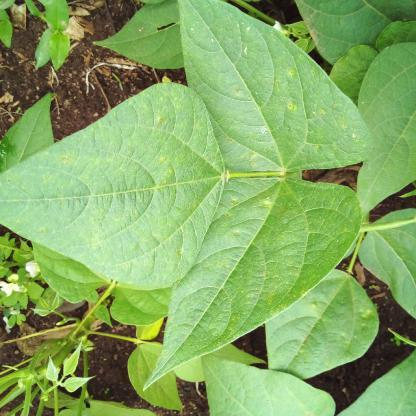Beans_Rust: (0, 76, 221, 289), (143, 179, 363, 390), (184, 0, 366, 162), (263, 269, 378, 385)
